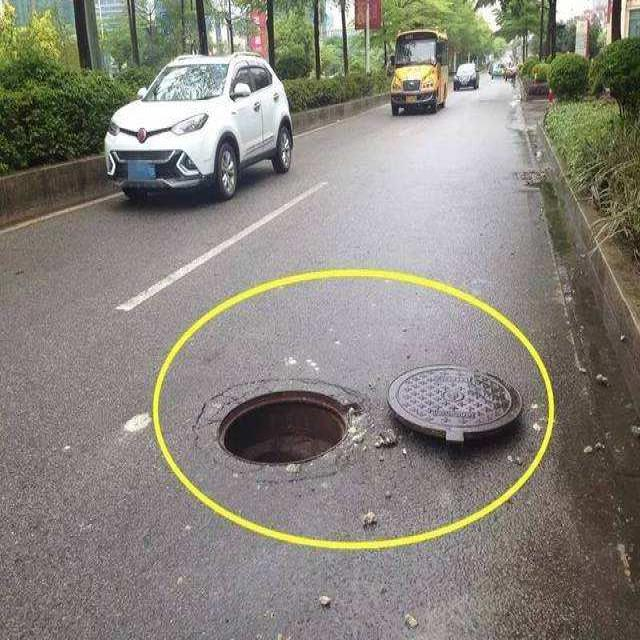manhole-cover: (178, 372, 358, 505)
obstracle: (380, 359, 535, 458)
